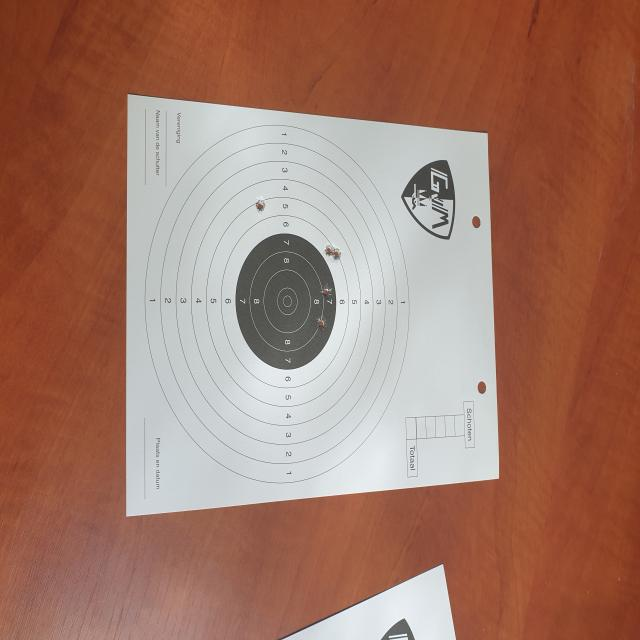5: (254, 196, 267, 215)
6: (333, 246, 342, 264), (325, 242, 333, 258)
8: (320, 284, 333, 300), (316, 316, 326, 333)
Target: (144, 122, 410, 484)
black_contour: (236, 235, 336, 370)
